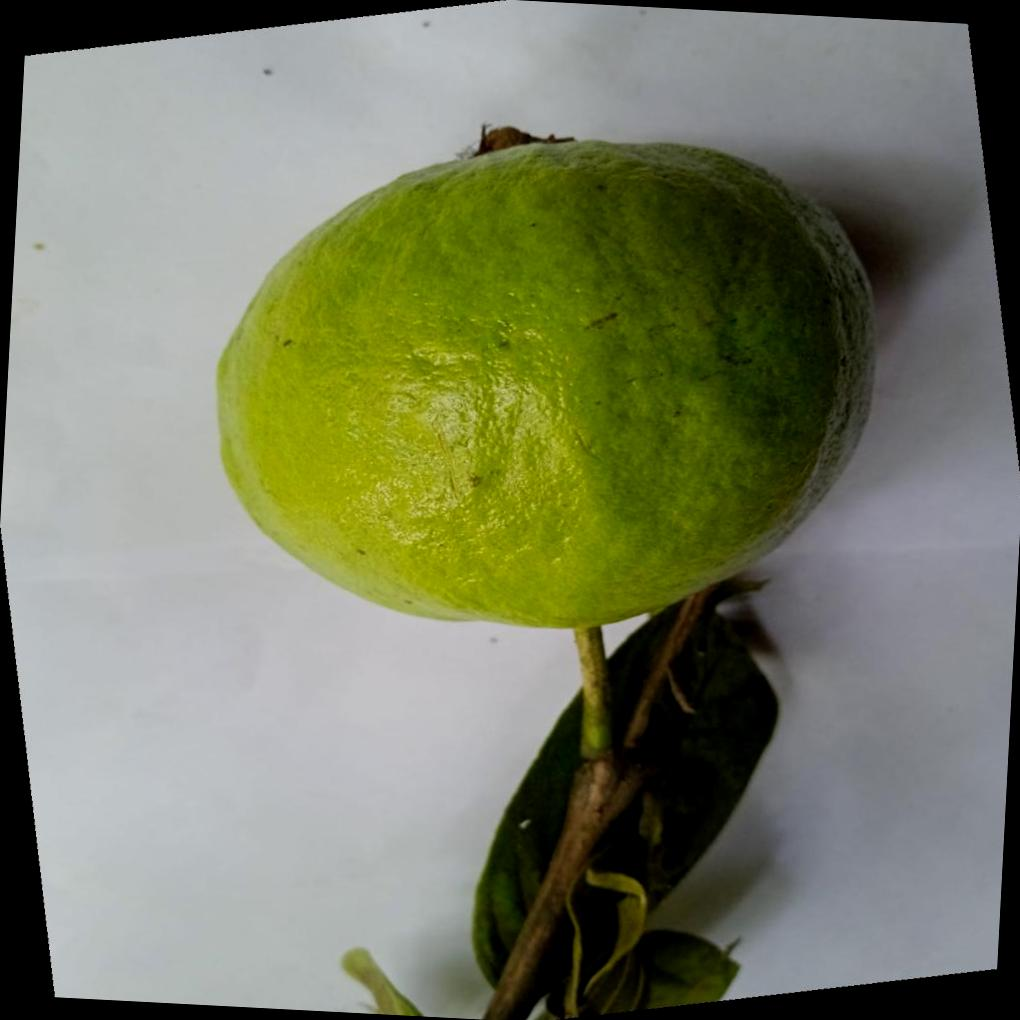FreshGuava: (209, 135, 874, 631)
